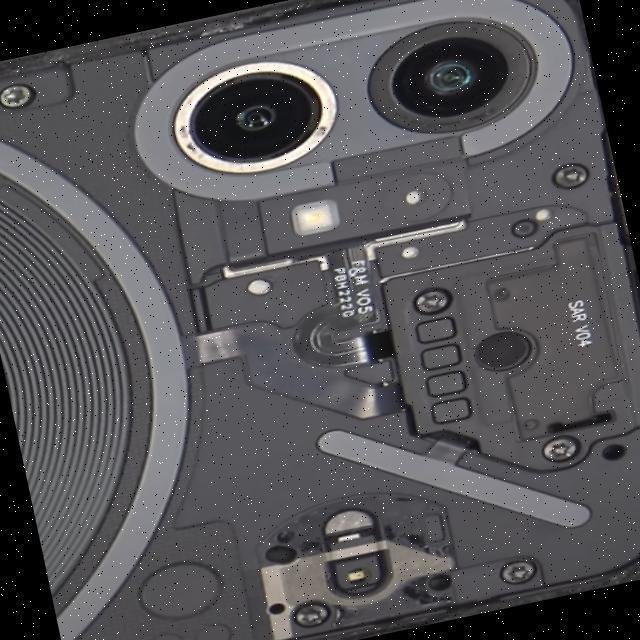Torx: (406, 280, 458, 318), (548, 158, 594, 192), (498, 556, 540, 588), (290, 598, 332, 630), (540, 432, 583, 463), (0, 79, 40, 111)
